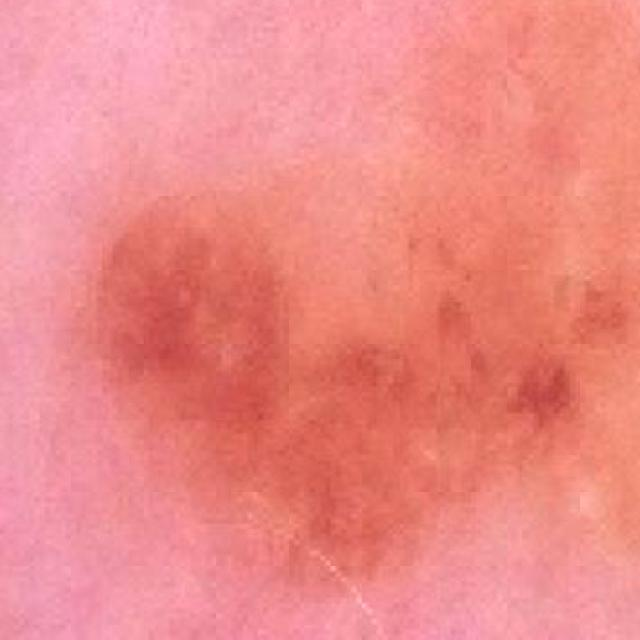BKL: (100, 0, 640, 597)
